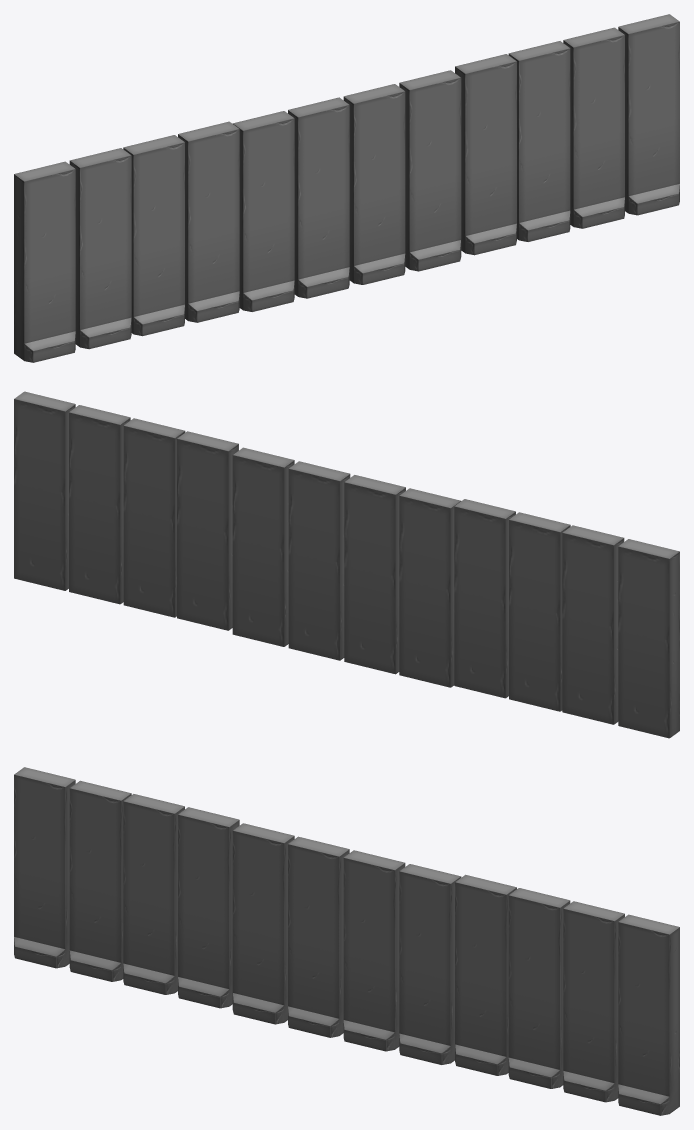
The model's file is block.fbx.
The picture shows the model from 3 angles, top to bottom: view 1: azimuth 30°, elevation 25°; view 2: azimuth 150°, elevation 25°; view 3: azimuth 330°, elevation 25°; orthographic projection.
Parts seen in each view (by area): view 1: block; view 2: block; view 3: block.
Boxes of the visible parts, box(x1,y1,x2,y2) form: block: box(14, 14, 679, 362); block: box(14, 391, 679, 738); block: box(14, 767, 679, 1115).
Bounding box in the file's own units: 153 × 40.6 × 5.81.
